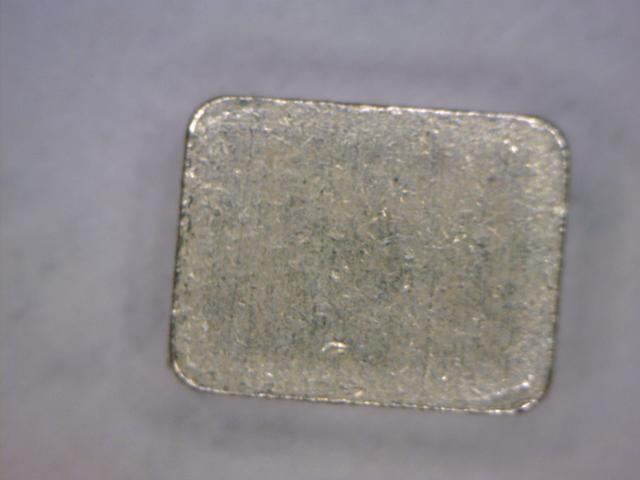ok: (162, 83, 584, 421)
